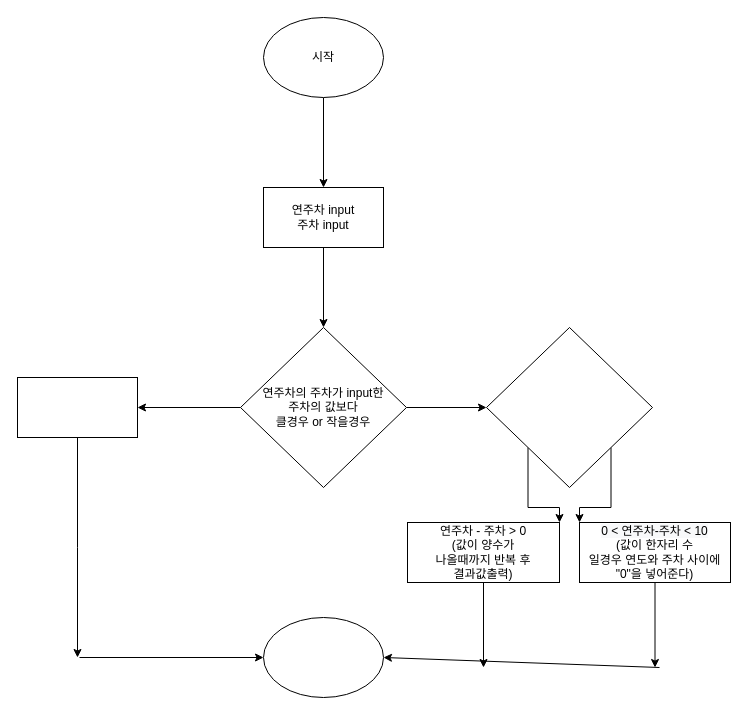
This 748x715 diagram has some shape labels left out. Each missing label, with the centre of its shape:
[작을경우] 연주차-주차 > 0 or 0 < 연주차-주차 < 10: the point at 569,407
[클경우] 연주차-input주차: the point at 77,407
종료: the point at 323,657
